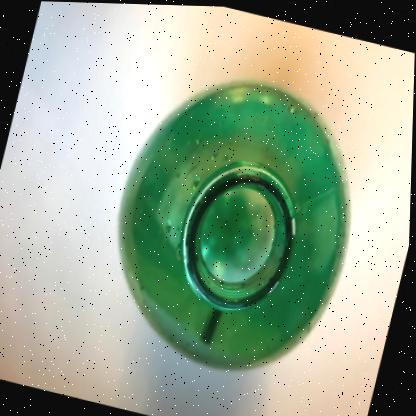Plastic: (119, 81, 348, 367)
